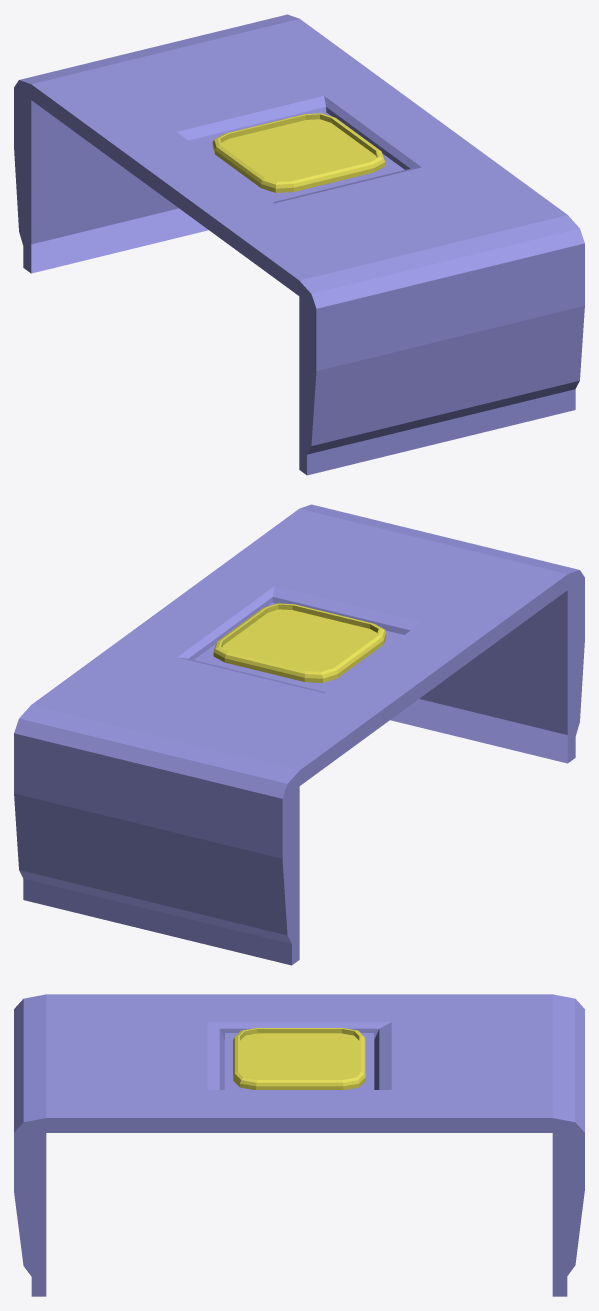
File: stol.fbx
3 views of the same model, one above another, from view 1: azimuth 30°, elevation 25°; view 2: azimuth 150°, elevation 25°; view 3: azimuth 270°, elevation 25° (orthographic). The views are drawn at different scales.
Visible parts, largest first — view 1: Plane.125; view 2: Plane.125; view 3: Plane.125.
Boxes of the visible parts, x1,y1,x2,y2 form: Plane.125: (14, 14, 584, 475); Plane.125: (14, 504, 584, 965); Plane.125: (14, 994, 584, 1296).
Bounding box in the file's own units: 72.13 × 49.11 × 141.
